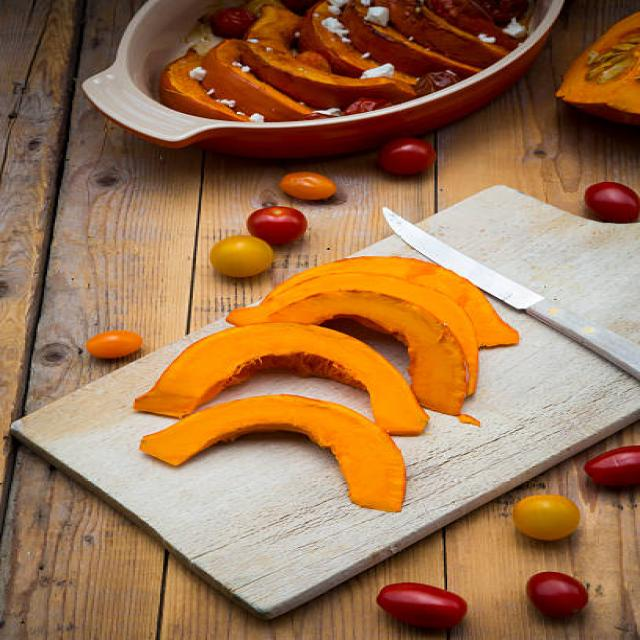pumpkin: (227, 274, 478, 414), (133, 324, 429, 436), (141, 395, 407, 512), (266, 256, 519, 346)
